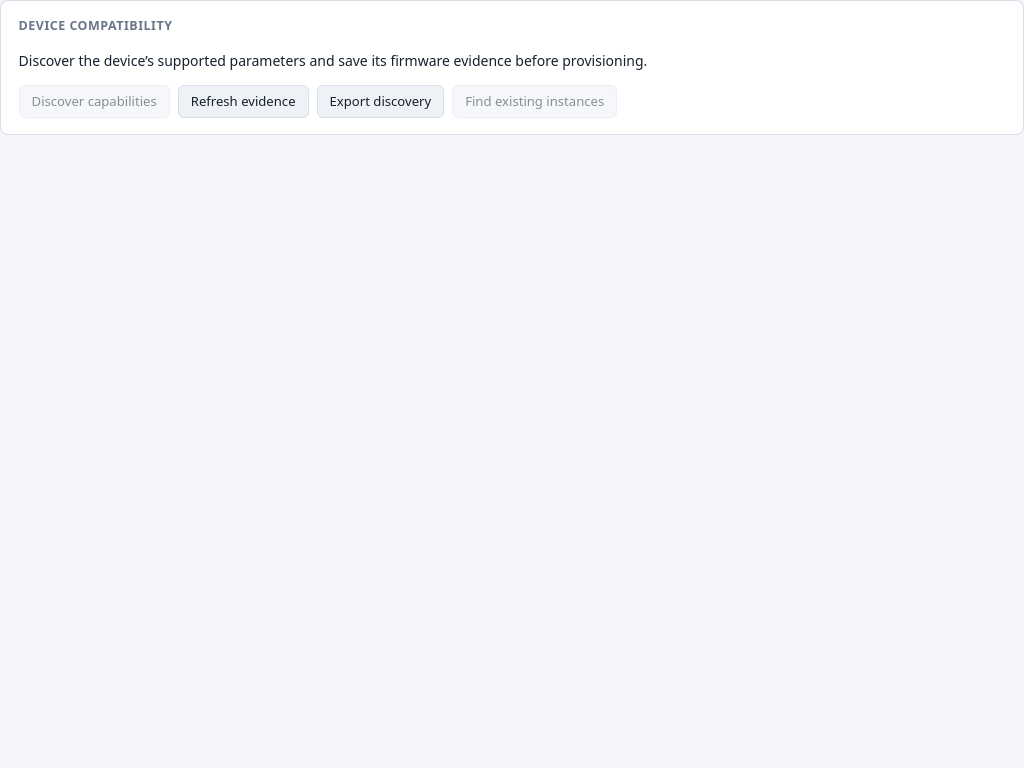
Test: Device compatibility evidence › shows distinct stages and a missing-report alert without implying firmware qualification
Click the button "Refresh evidence" at (243, 101), box [178,85,308,118]
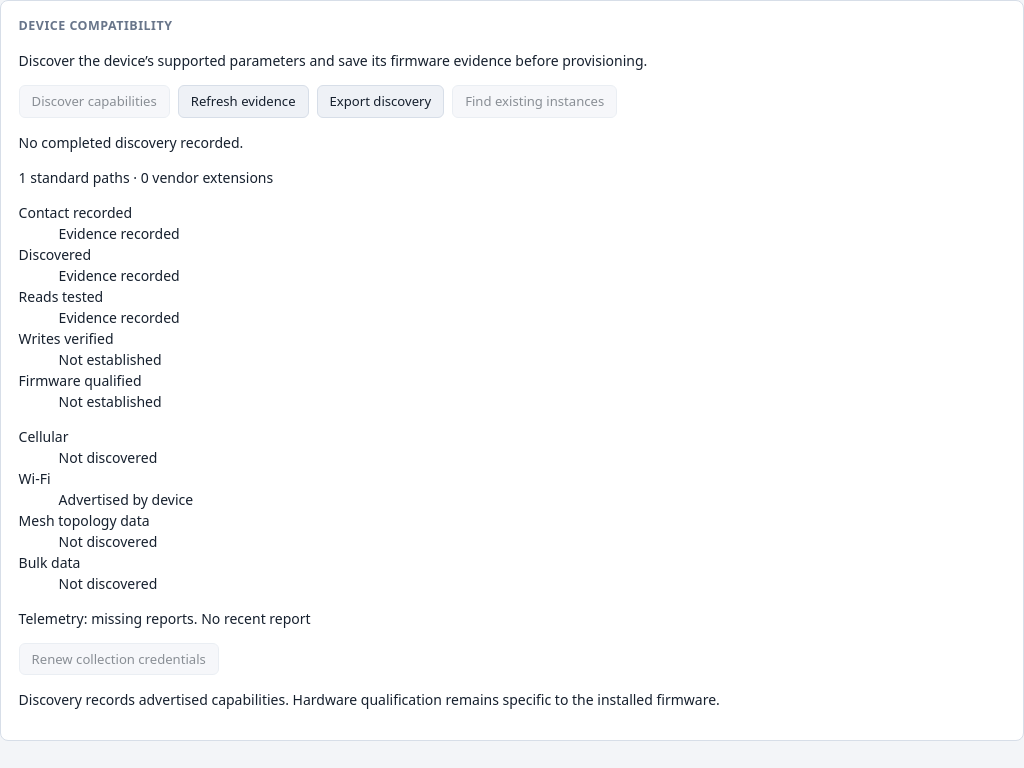
Check: the text "Firmware qualified" is shown, box [19,370,142,390]
Check: the text "Not established" is shown 2 times, box [59,350,162,368]; [59,392,162,410]
Check: the text "Telemetry: missing reports. No recent report" is shown, box [19,608,311,628]
